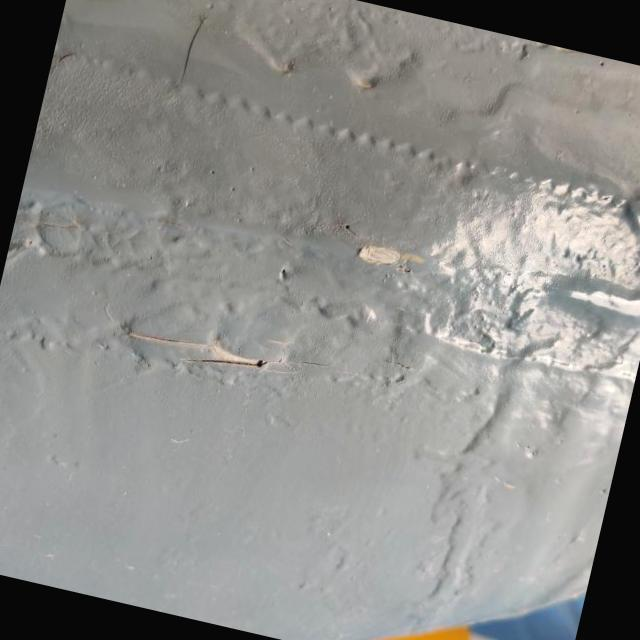crack: (110, 294, 339, 408)
